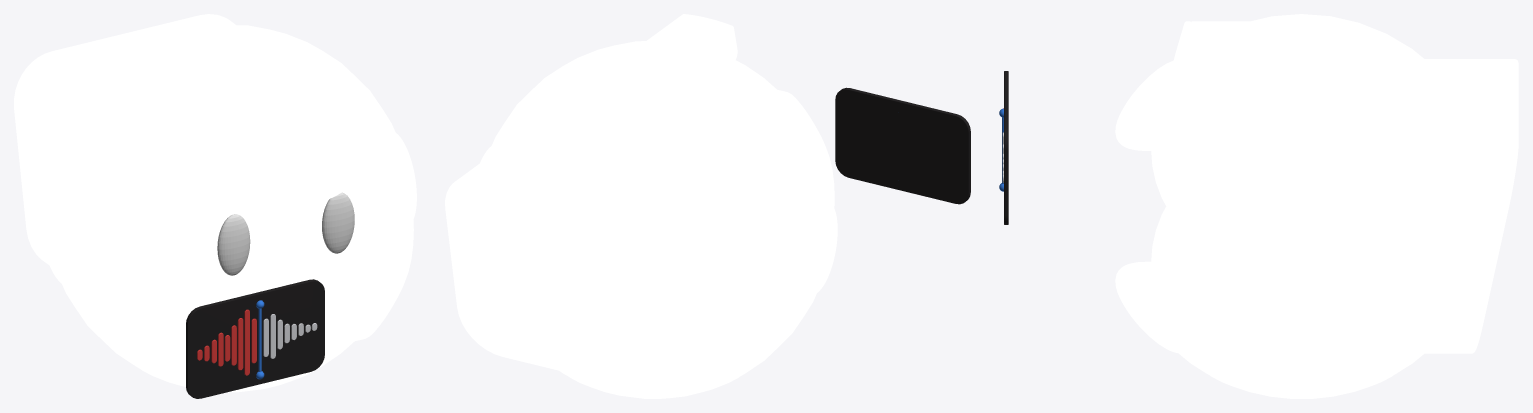
The model's file is robotAni01.glb.
3 renders of one model, left to right at view 1: azimuth 30°, elevation 25°; view 2: azimuth 150°, elevation 25°; view 3: azimuth 270°, elevation 25°, orthographic. The views are drawn at different scales.
Visible parts, largest first — view 1: robot, voice, SphereRight, SphereLeft; view 2: robot, voice; view 3: robot, voice.
Part boxes in pixels (box(x1,y1,x2,y2)): robot: box(14, 14, 416, 392); voice: box(186, 279, 324, 398); SphereRight: box(217, 214, 250, 275); SphereLeft: box(322, 192, 354, 253); robot: box(445, 14, 837, 398); voice: box(835, 87, 970, 204); robot: box(1115, 14, 1518, 398); voice: box(999, 71, 1008, 224).
Bounding box in the file's own units: 0.3274 × 0.2906 × 0.4049.
Materials: 2 (1 with a texture image).
